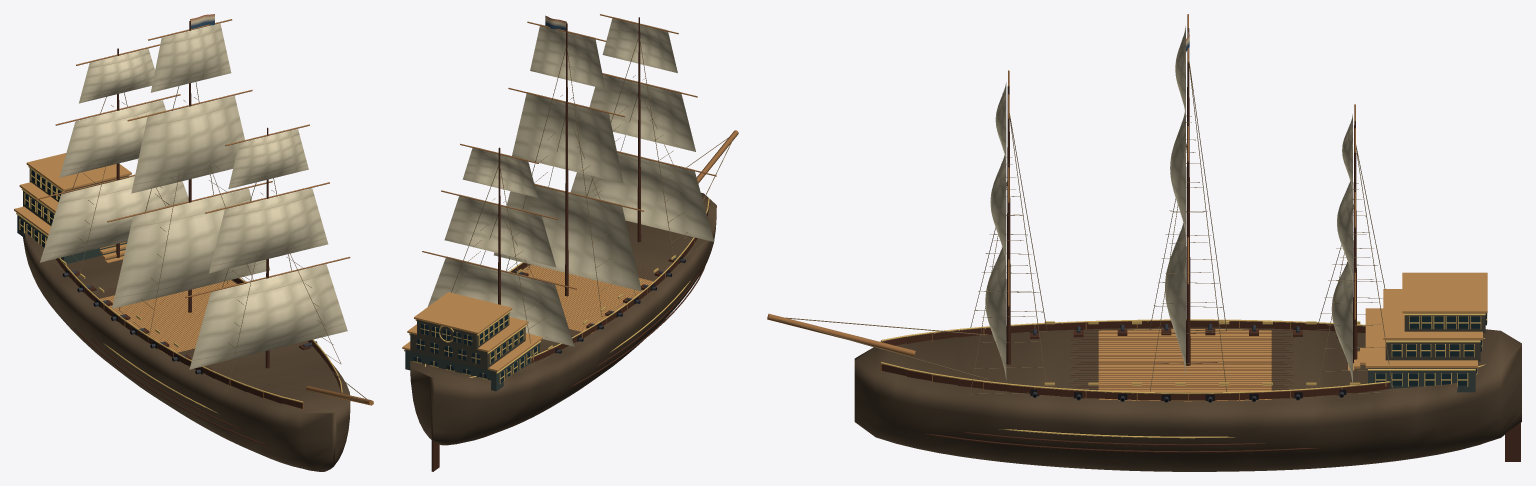
File: heavy-lod0.glb
3 renders of one model, left to right at view 1: azimuth 30°, elevation 25°; view 2: azimuth 150°, elevation 25°; view 3: azimuth 270°, elevation 25°, orthographic. The views are drawn at different scales.
Visible parts, largest first — view 1: hull, sail_07, sail_04, sail_05, sail_01, sail_08, sail_02, fittings_deck, deck, sail_06, fittings_trim, fittings_wood (+7 smaller); view 2: hull, sail_04, sail_07, sail_05, sail_01, sail_08, fittings_deck, sail_02, fittings_trim, deck, sail_06, sail_09 (+12 smaller); view 3: hull, fittings_deck, deck, fittings_trim, fittings_wood, fittings_iron, sail_04, sail_07, sail_01, stern_tier_02_body, stern_tier_01_body, sail_05 (+6 smaller).
Boxes of the visible parts, bbox=[...] form: hull: bbox=[23, 230, 350, 471]; sail_07: bbox=[189, 264, 347, 369]; sail_04: bbox=[112, 188, 269, 308]; sail_05: bbox=[131, 95, 244, 193]; sail_01: bbox=[40, 176, 188, 262]; sail_08: bbox=[209, 188, 328, 273]; sail_02: bbox=[59, 100, 165, 177]; fittings_deck: bbox=[14, 153, 234, 357]; deck: bbox=[100, 280, 238, 354]; sail_06: bbox=[150, 23, 231, 92]; fittings_trim: bbox=[16, 82, 371, 414]; fittings_wood: bbox=[56, 258, 373, 446]; hull: bbox=[410, 192, 716, 445]; sail_04: bbox=[494, 183, 641, 291]; sail_07: bbox=[570, 151, 714, 241]; sail_05: bbox=[512, 92, 623, 183]; sail_01: bbox=[427, 256, 574, 346]; sail_08: bbox=[589, 73, 695, 151]; fittings_deck: bbox=[402, 265, 667, 371]; sail_02: bbox=[444, 194, 555, 267]; fittings_trim: bbox=[404, 37, 734, 384]; deck: bbox=[521, 264, 653, 333]; sail_06: bbox=[530, 24, 605, 88]; sail_09: bbox=[602, 17, 677, 73]; hull: bbox=[854, 327, 1521, 471]; fittings_deck: bbox=[1070, 272, 1487, 398]; deck: bbox=[1098, 329, 1271, 401]; fittings_trim: bbox=[778, 60, 1487, 438]; fittings_wood: bbox=[767, 313, 1389, 452]; fittings_iron: bbox=[1030, 313, 1486, 400]; sail_04: bbox=[1165, 223, 1185, 374]; sail_07: bbox=[985, 247, 1006, 379]; sail_01: bbox=[1331, 261, 1352, 385]; stern_tier_02_body: bbox=[1385, 340, 1480, 361]; stern_tier_01_body: bbox=[1368, 368, 1475, 392]; sail_05: bbox=[1170, 111, 1185, 236].
Bounding box in the file's own units: 17.19 × 37.6 × 58.83.
